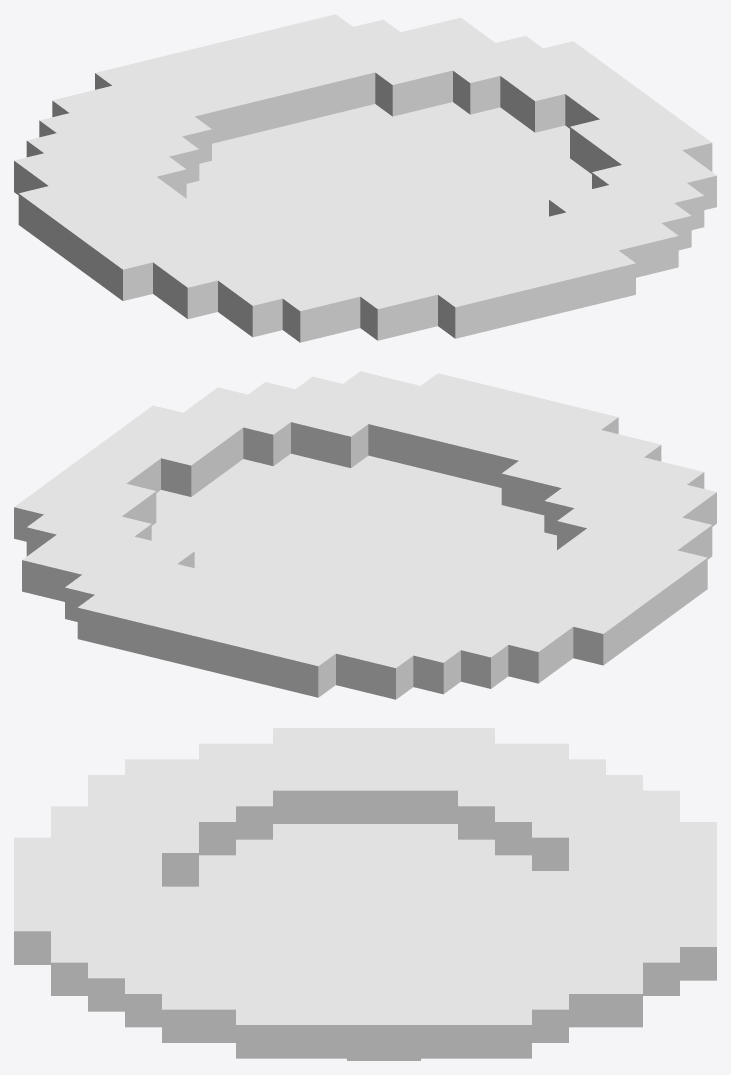
The model's file is piatto.gltf.
The picture shows the model from 3 angles, top to bottom: view 1: azimuth 30°, elevation 25°; view 2: azimuth 150°, elevation 25°; view 3: azimuth 270°, elevation 25°; orthographic projection. The views are drawn at different scales.
Visible parts, largest first — view 1: Layer.2, Layer.1; view 2: Layer.2, Layer.1; view 3: Layer.2, Layer.1.
Boxes of the visible parts, x1,y1,x2,y2 form: Layer.2: (14,14,716,342); Layer.1: (186,102,591,250); Layer.2: (14,371,716,699); Layer.1: (151,453,556,607); Layer.2: (14,728,716,1058); Layer.1: (162,824,568,1060).
Bounding box in the file's own units: 19 × 2 × 19.
Materials: 1 (1 with a texture image).
